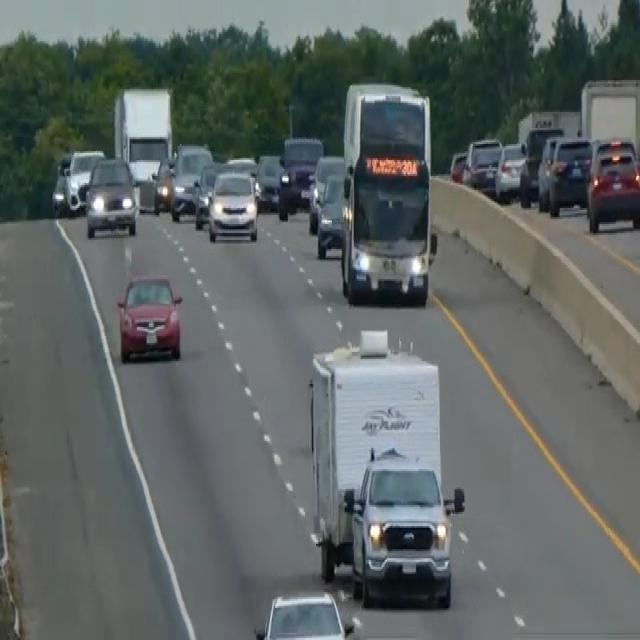bus: (338, 78, 437, 306)
car: (115, 272, 183, 363), (252, 587, 357, 638), (585, 139, 639, 233), (84, 155, 138, 238), (277, 133, 324, 217), (207, 167, 258, 244), (547, 133, 593, 215), (169, 140, 212, 220), (307, 153, 344, 233), (64, 148, 104, 214), (316, 170, 345, 258), (462, 135, 501, 192), (494, 139, 527, 201), (536, 133, 563, 208), (193, 160, 220, 228), (254, 153, 284, 211), (224, 153, 258, 194), (150, 155, 174, 213), (51, 151, 72, 215), (448, 148, 467, 183)
truck: (306, 325, 466, 608)
